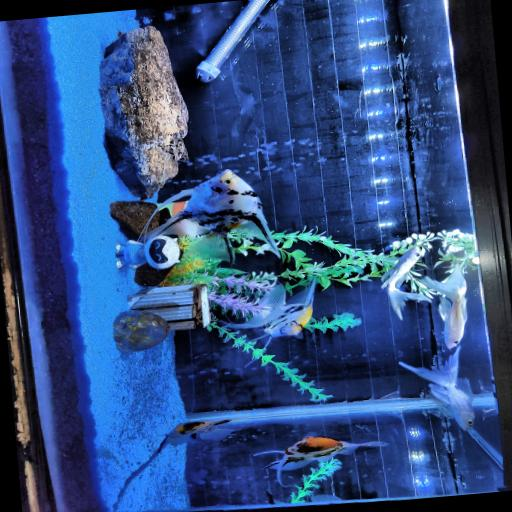Fish: (139, 169, 278, 261), (254, 436, 386, 484), (399, 346, 474, 429), (228, 280, 314, 348), (421, 268, 466, 348), (381, 246, 430, 319), (157, 418, 238, 451)
